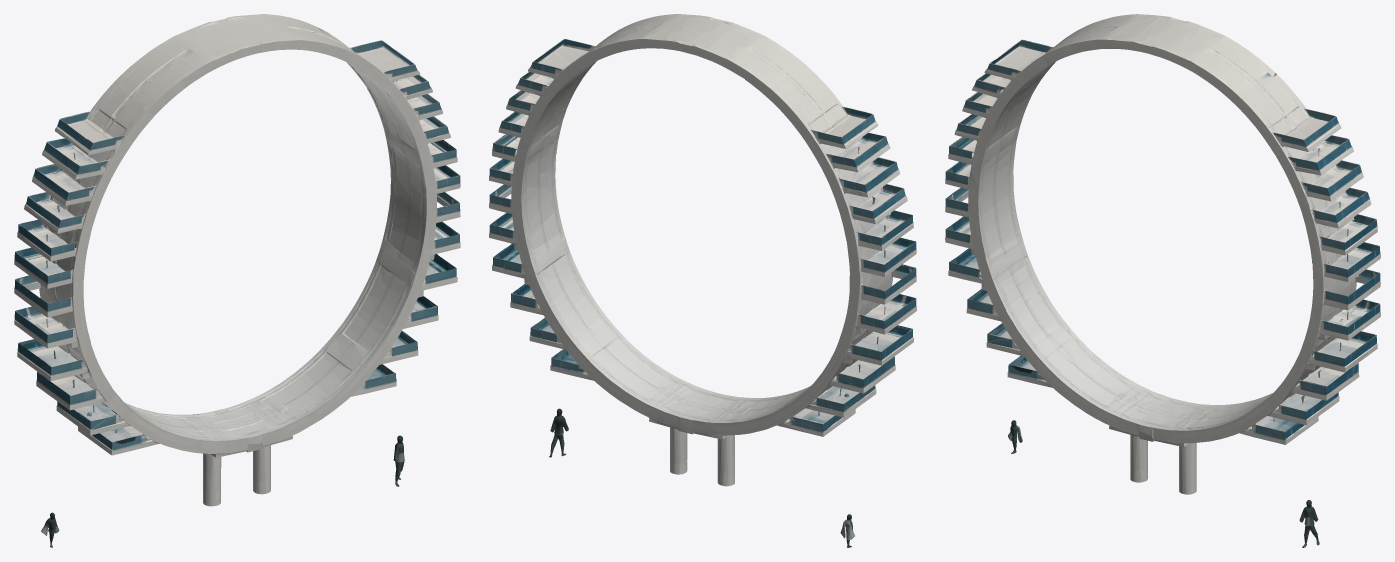
File: tower-crescent-mesh.glb
3 views of the same model, side by side, from view 1: azimuth 30°, elevation 25°; view 2: azimuth 150°, elevation 25°; view 3: azimuth 330°, elevation 25° (orthographic). The views are drawn at different scales.
Visible parts, largest first — view 1: Mesh_0; view 2: Mesh_0; view 3: Mesh_0.
Boxes of the visible parts, left/top/right/bottom form: Mesh_0: left=14, top=14, right=460, bottom=547; Mesh_0: left=489, top=14, right=916, bottom=547; Mesh_0: left=945, top=14, right=1380, bottom=547.
Bounding box in the file's own units: 1.69 × 1.9 × 0.2759.
Materials: 1 (1 with a texture image).
